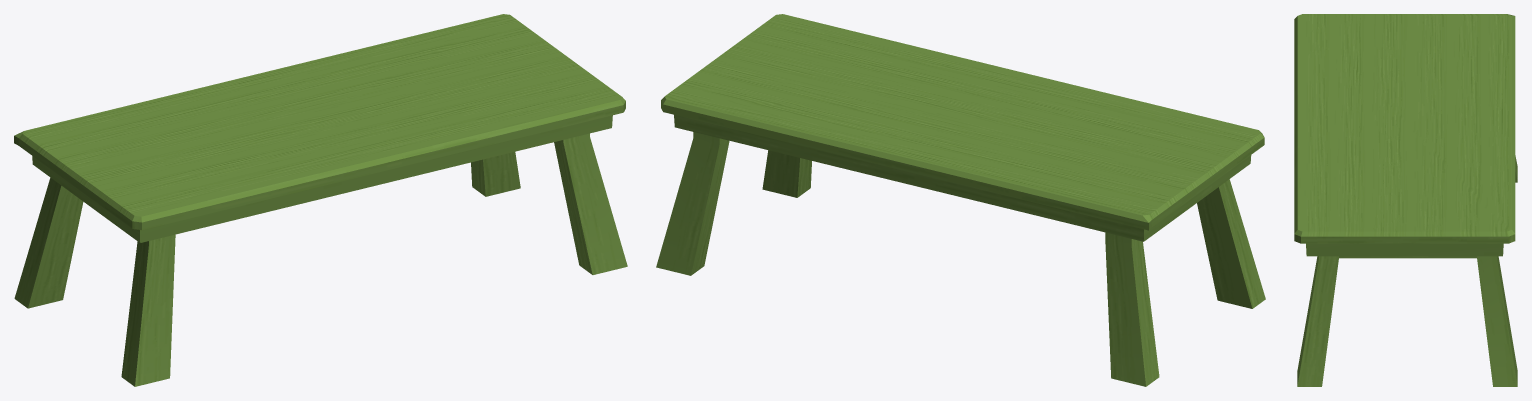
The model's file is Bench_D.FBX.
3 views of the same model, side by side, from view 1: azimuth 30°, elevation 25°; view 2: azimuth 150°, elevation 25°; view 3: azimuth 270°, elevation 25° (orthographic). The views are drawn at different scales.
Parts seen in each view (by area): view 1: Bench; view 2: Bench; view 3: Bench.
Boxes of the visible parts, x1,y1,x2,y2 form: Bench: (14, 14, 627, 386); Bench: (656, 14, 1265, 386); Bench: (1294, 14, 1517, 386).
Size of the model in its own units: 281 by 91.5 by 120.
